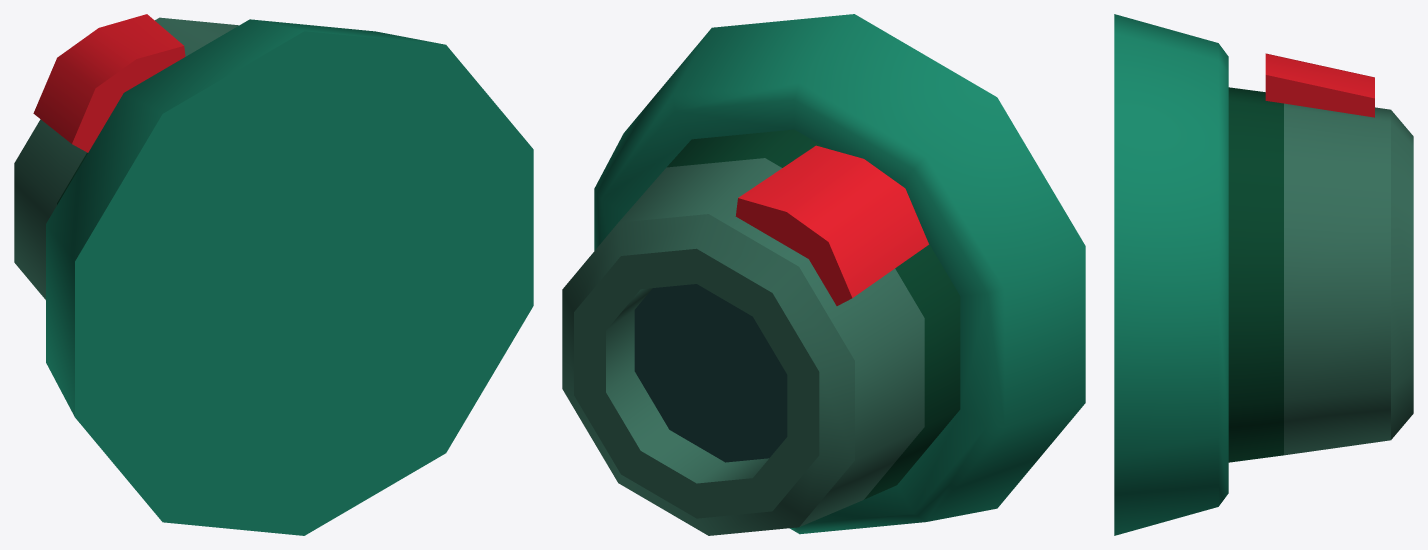
Rendered from automatic_gun.fbx.
3 renders of one model, left to right at view 1: azimuth 30°, elevation 25°; view 2: azimuth 150°, elevation 25°; view 3: azimuth 270°, elevation 25°, orthographic. The views are drawn at different scales.
Parts seen in each view (by area): view 1: automatic_gun; view 2: automatic_gun; view 3: automatic_gun.
Boxes of the visible parts, x1,y1,x2,y2 form: automatic_gun: (14,14,533,535); automatic_gun: (562,14,1085,535); automatic_gun: (1114,14,1413,535).
Size of the model in its own units: 0.91 by 0.9568 by 0.5386.
